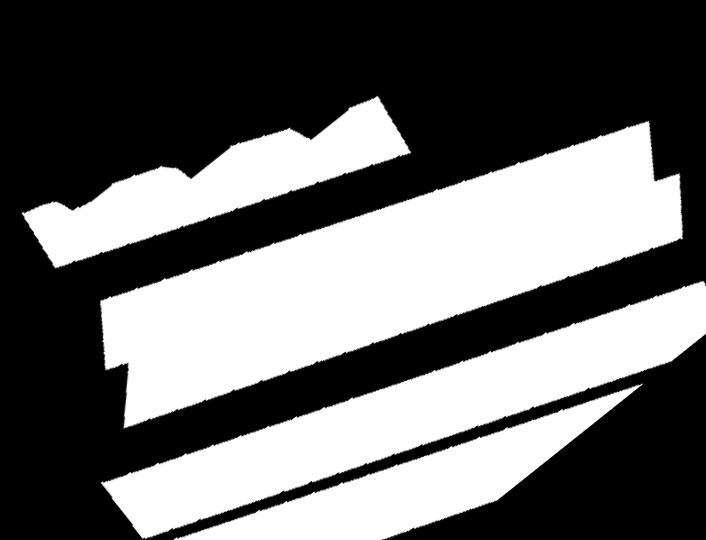parkingspot: (100, 121, 683, 428), (101, 281, 706, 539), (174, 384, 642, 540), (22, 96, 411, 268)
